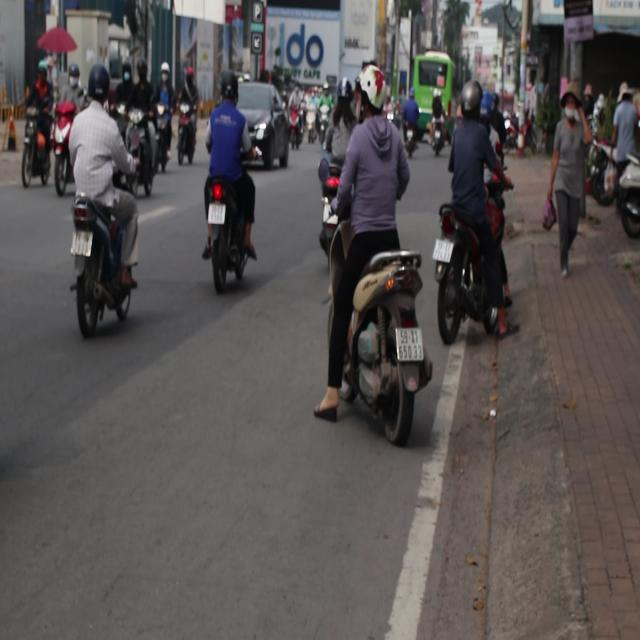bus: (411, 50, 455, 125)
car: (240, 86, 290, 176)
motorbike: (314, 230, 423, 439), (49, 200, 153, 350), (435, 192, 515, 334), (196, 174, 258, 304), (28, 86, 53, 203), (122, 95, 150, 185), (52, 94, 78, 184), (616, 152, 640, 241), (175, 100, 202, 177), (588, 144, 619, 204), (319, 174, 338, 264), (154, 110, 175, 169), (398, 112, 421, 162), (289, 101, 309, 157), (312, 94, 333, 144), (429, 115, 449, 158), (304, 104, 318, 138)
